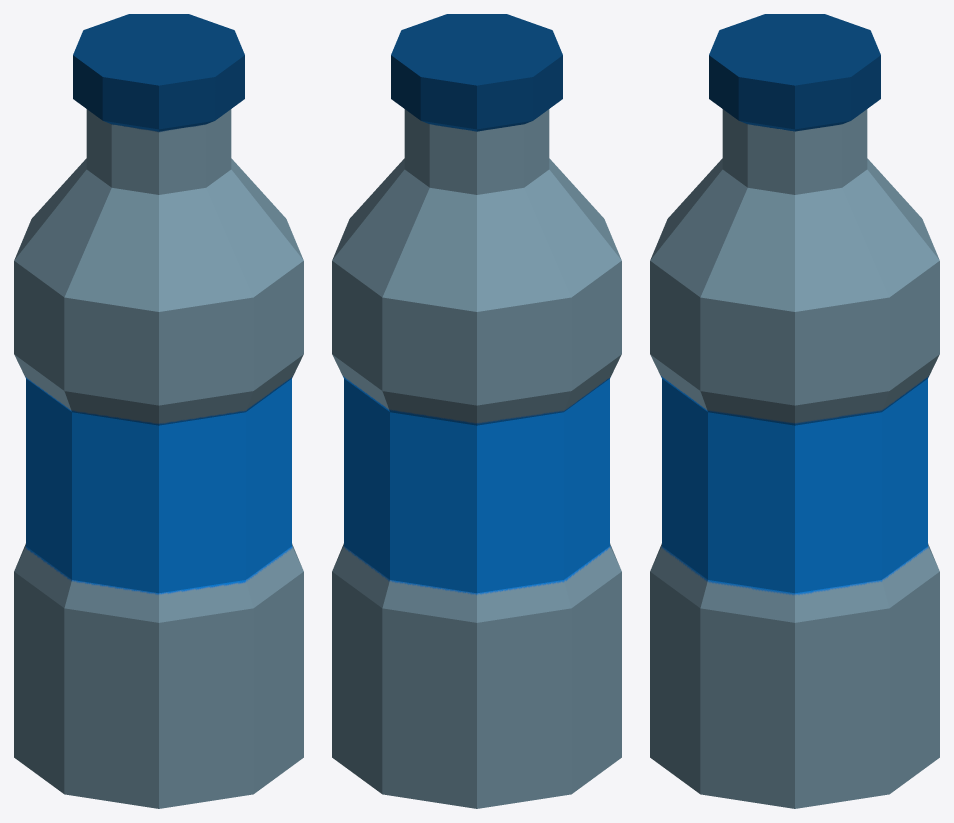
The model's file is bottle.fbx.
The picture shows the model from 3 angles, left to right: view 1: azimuth 30°, elevation 25°; view 2: azimuth 150°, elevation 25°; view 3: azimuth 270°, elevation 25°; orthographic projection.
Parts seen in each view (by area): view 1: Cylinder001; view 2: Cylinder001; view 3: Cylinder001.
Part boxes in pixels (box(x1,y1,x2,y2)): Cylinder001: box(14, 14, 303, 808); Cylinder001: box(332, 14, 621, 808); Cylinder001: box(650, 14, 939, 808).
Size of the model in its own units: 14.64 by 39.53 by 14.87.
1 material, 1 textured.
